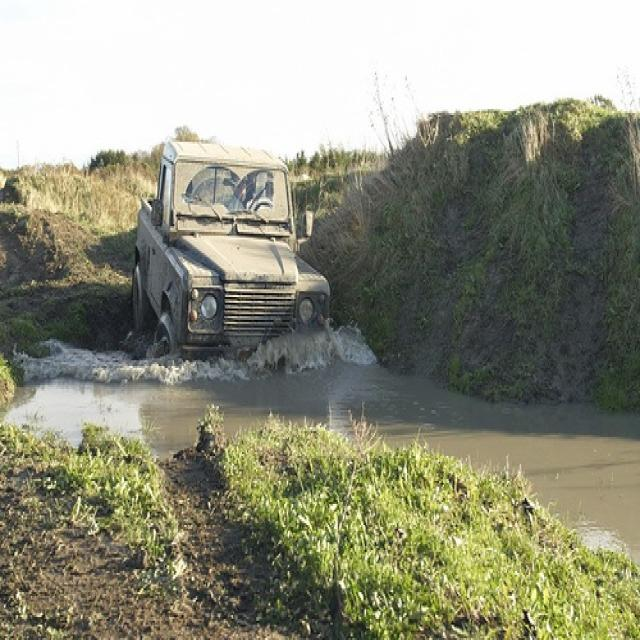car: (127, 138, 335, 381)
